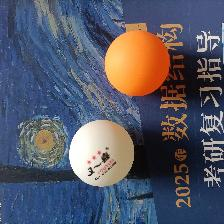WhiteBall: (67, 119, 134, 187)
YellowBall: (103, 29, 170, 96)
